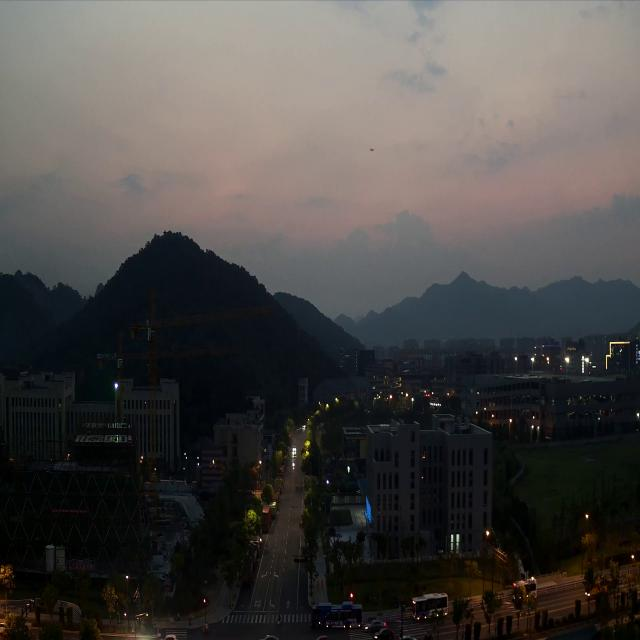drone: (370, 148, 374, 151)
